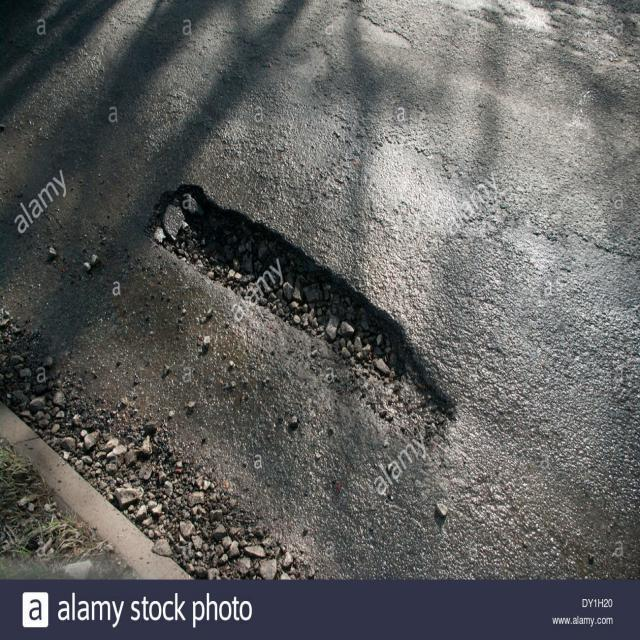Buraco: (136, 180, 467, 452)
